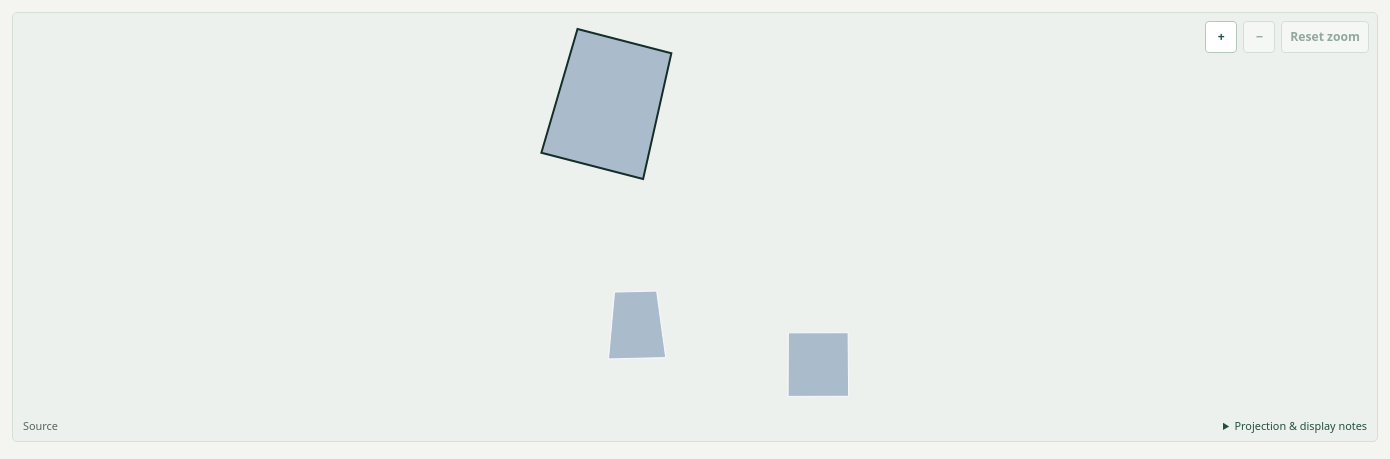
generic United States mapping › pans a zoomed map with arrow keys, preserves its center on zoom-in, and resets the viewport
Later steps or results of the test are not shown.
Click the button named "Zoom in".
click(1221, 37)  # box [1205,21,1237,53]
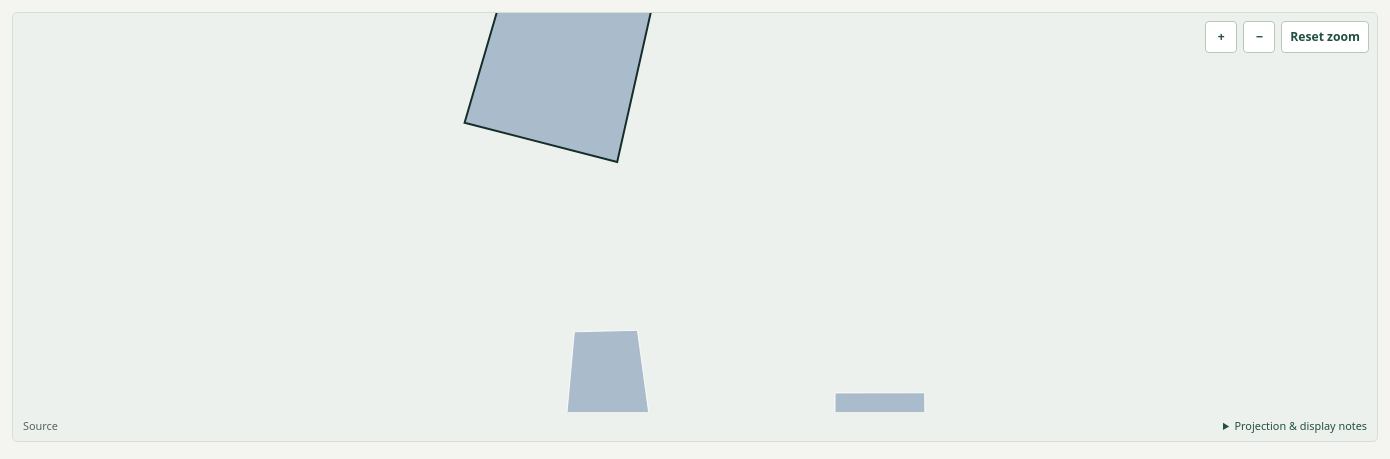
Result: the icon named "Pan map" has class "is-pannable"
Press ArrowRight in the icon named "Pan map"
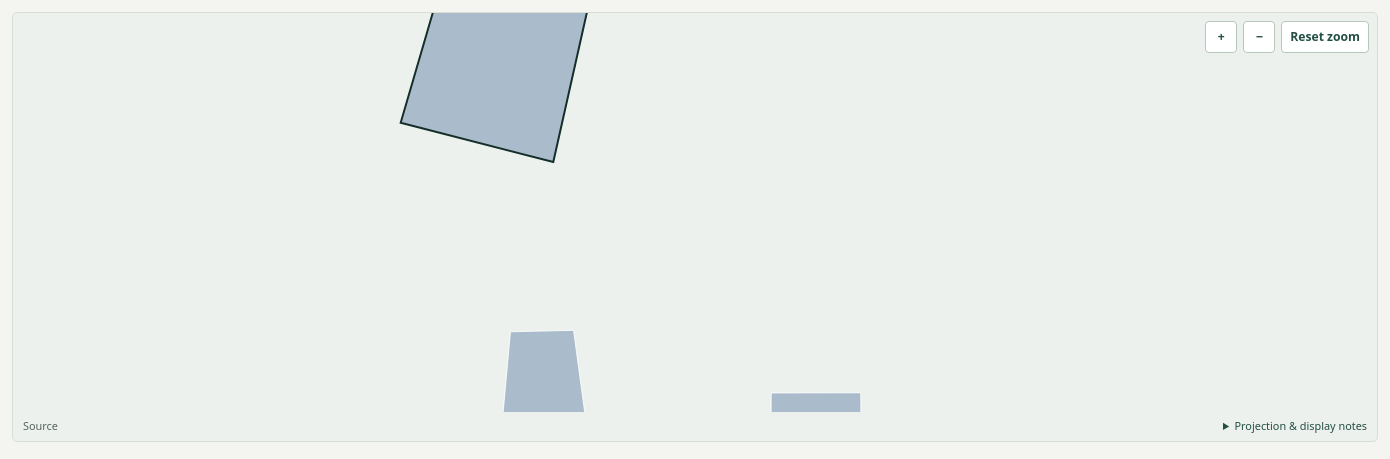
Click the button named "Zoom in".
click(1221, 37)  # box [1205,21,1237,53]
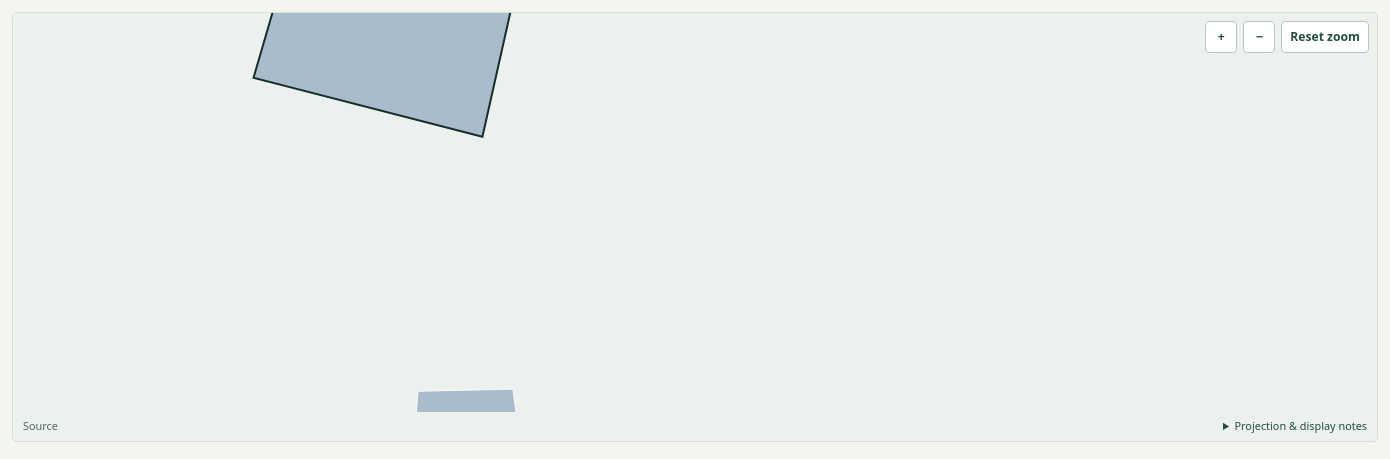
Click the button "Reset zoom".
click(1325, 37)  # box [1281,21,1369,53]
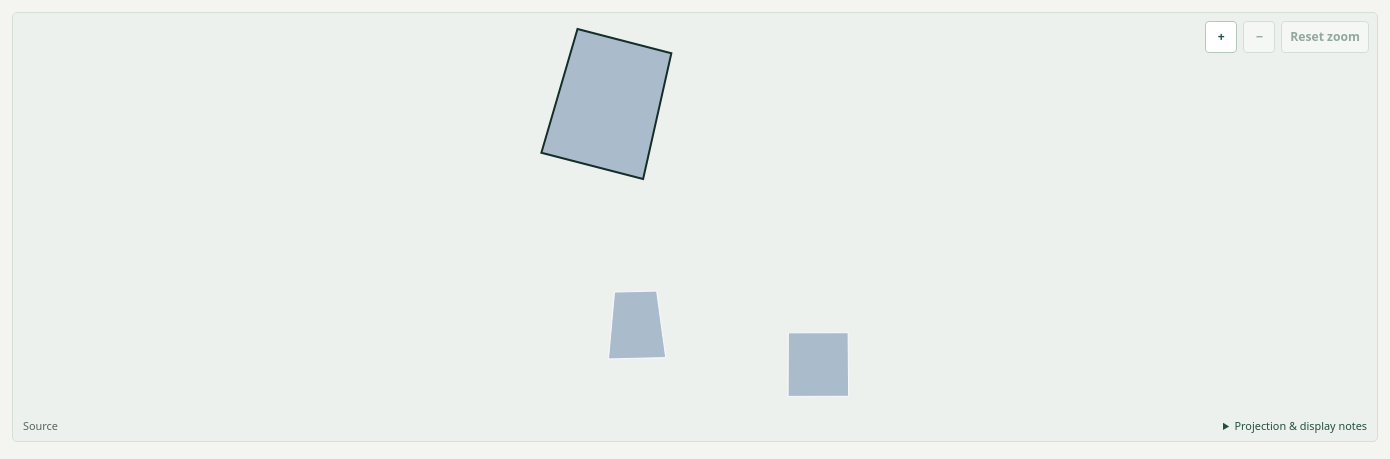
Result: the icon named "Pan map" has attribute viewBox="0 0 960 600"
Result: the icon named "Pan map" does not have class "is-pannable"
